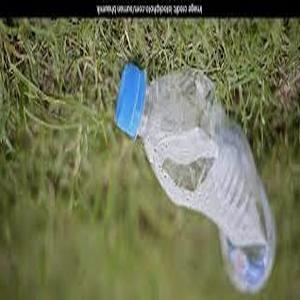Plastic: (112, 63, 274, 293)
